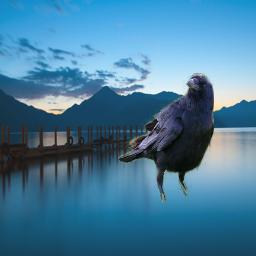Crow: (118, 73, 214, 203)
